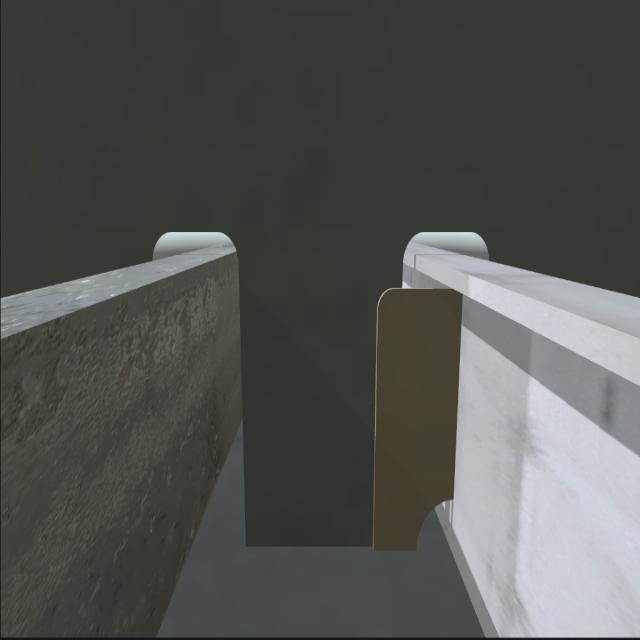fillet_hole: (412, 498, 454, 550)
fillet_yong_jeop_jang: (248, 524, 413, 558)
longi_yong_jeop_jang: (450, 285, 467, 495)
plate_CP05: (371, 282, 452, 554)
